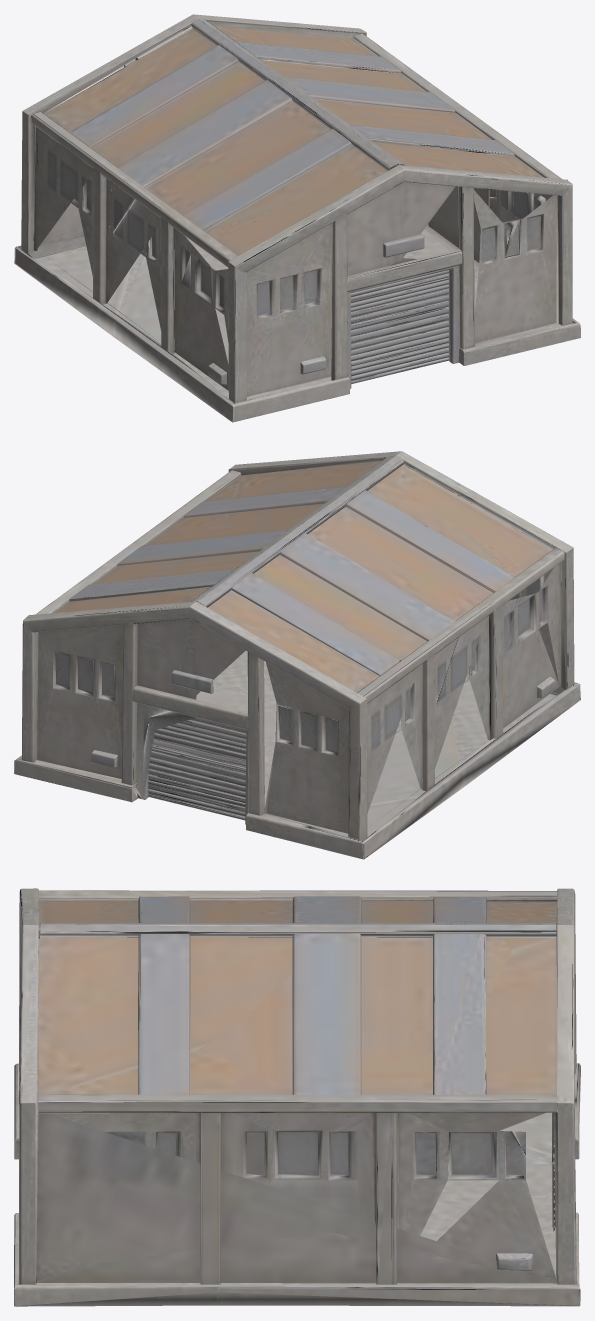
File: 20-warehouse.glb
The picture shows the model from 3 angles, top to bottom: view 1: azimuth 30°, elevation 25°; view 2: azimuth 150°, elevation 25°; view 3: azimuth 270°, elevation 25°; orthographic projection. The views are drawn at different scales.
Parts seen in each view (by area): view 1: geometry_0; view 2: geometry_0; view 3: geometry_0.
Part boxes in pixels (left/top/right/bottom): geometry_0: left=14, top=14, right=580, bottom=422; geometry_0: left=14, top=451, right=580, bottom=859; geometry_0: left=14, top=888, right=580, bottom=1306.
Bounding box in the file's own units: 0.8799 × 0.5029 × 0.9487.
Materials: 1 (1 with a texture image).
